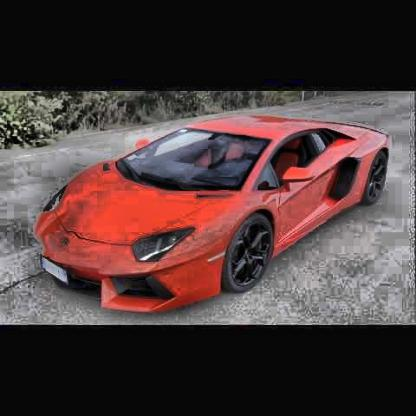Lamborghini Aventador Coupe 2012: (36, 116, 393, 314)
